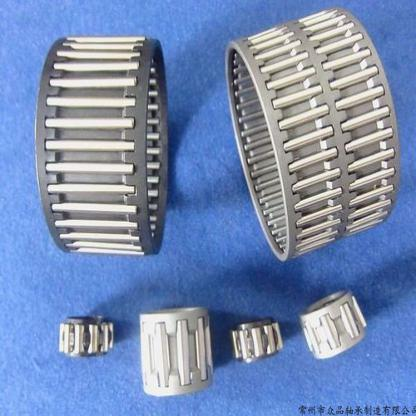FOD: (222, 5, 404, 264), (31, 34, 172, 264), (136, 305, 215, 399), (299, 290, 369, 364), (56, 314, 118, 362)
